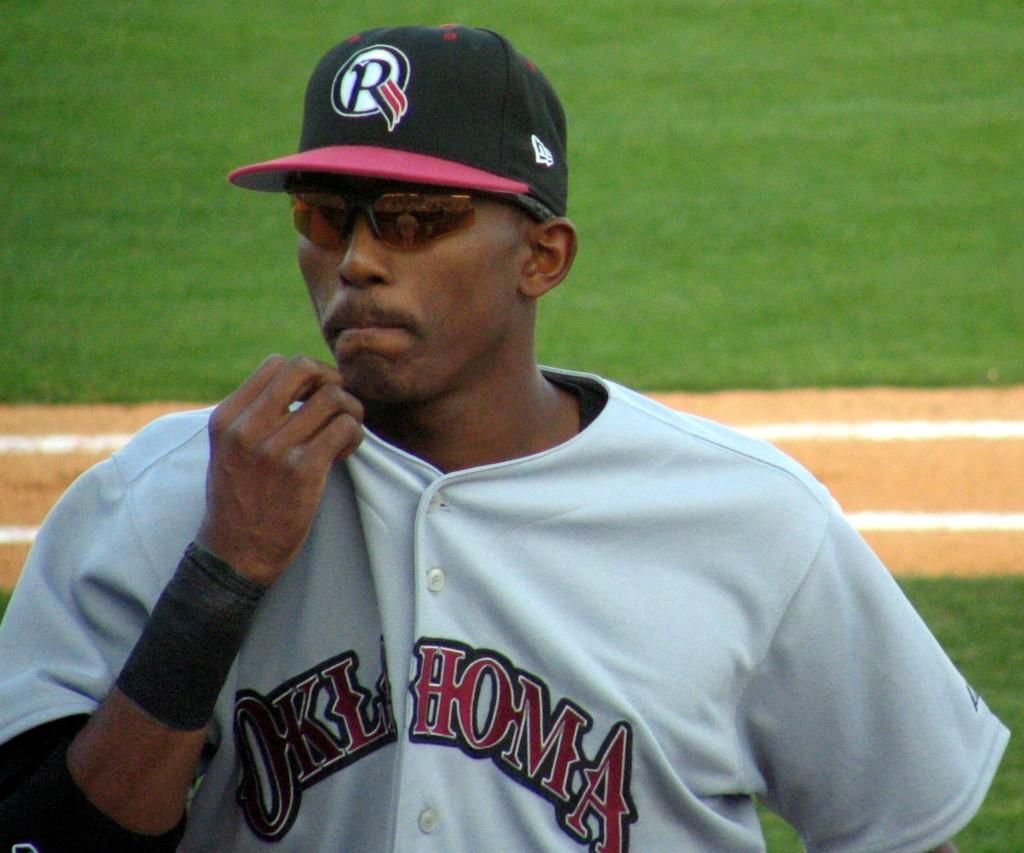Hat: (230, 22, 568, 218)
